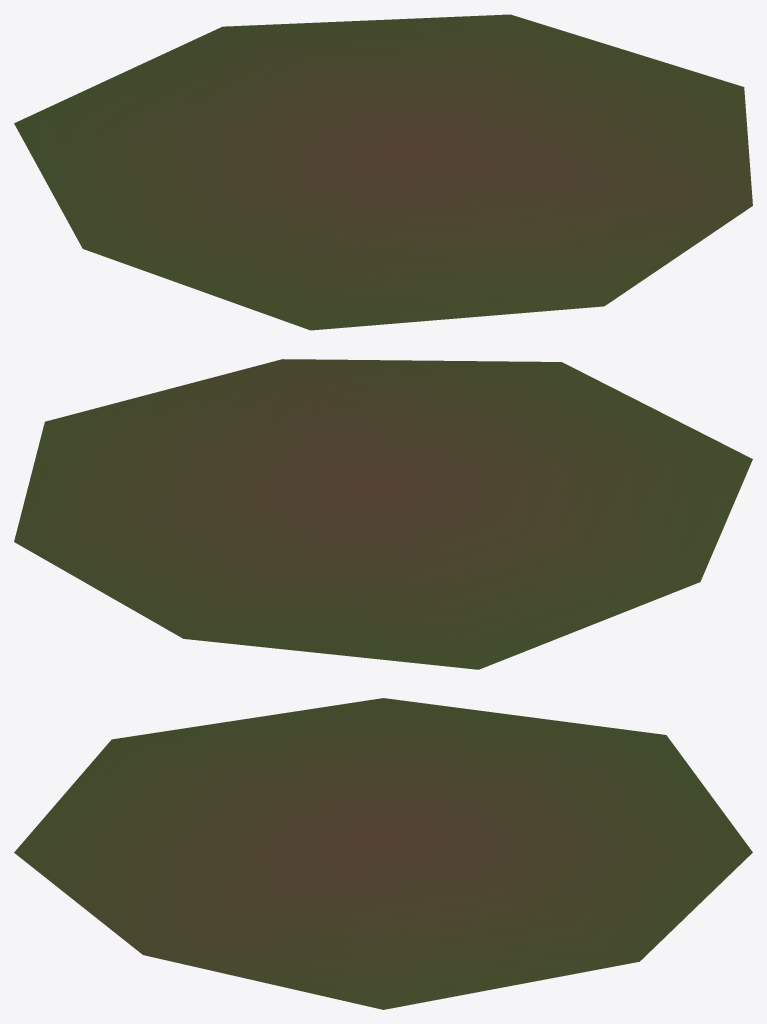
The model's file is soil-patch-a.lod2.glb.
3 renders of one model, top to bottom at view 1: azimuth 30°, elevation 25°; view 2: azimuth 150°, elevation 25°; view 3: azimuth 270°, elevation 25°, orthographic. The views are drawn at different scales.
Bounding box in the file's own units: 1.2 × 0.027 × 1.2.
